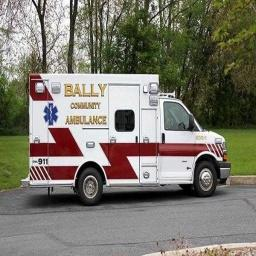Ambulance: (21, 74, 230, 204)
